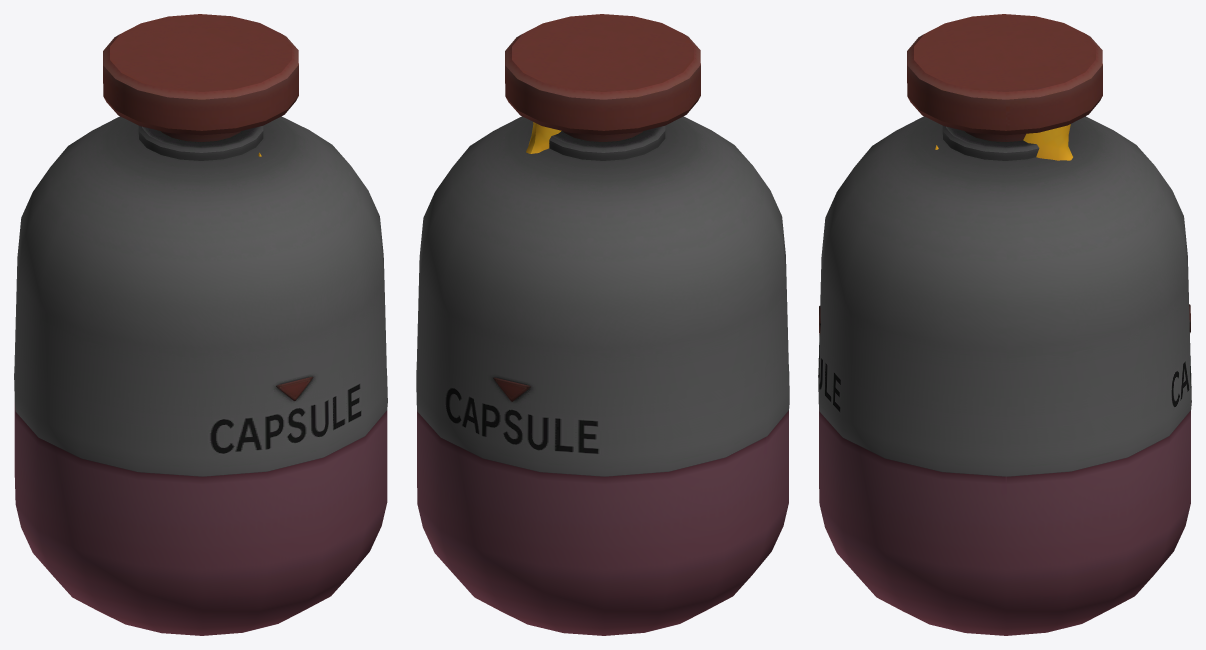
Rendered from flutflutegg-lod0.glb.
3 renders of one model, left to right at view 1: azimuth 30°, elevation 25°; view 2: azimuth 150°, elevation 25°; view 3: azimuth 270°, elevation 25°, orthographic.
Visible parts, largest first — view 1: capsuleShape; view 2: capsuleShape, SK_CPS1999_Spyro_section000; view 3: capsuleShape, SK_CPS1999_Spyro_section000.
Boxes of the visible parts, x1,y1,x2,y2 form: capsuleShape: (14, 14, 387, 635); capsuleShape: (416, 14, 789, 635); SK_CPS1999_Spyro_section000: (526, 122, 561, 153); capsuleShape: (818, 14, 1191, 635); SK_CPS1999_Spyro_section000: (935, 124, 1072, 160).
Bounding box in the file's own units: 4.04 × 6.56 × 3.98.
6 materials, 6 textured.
